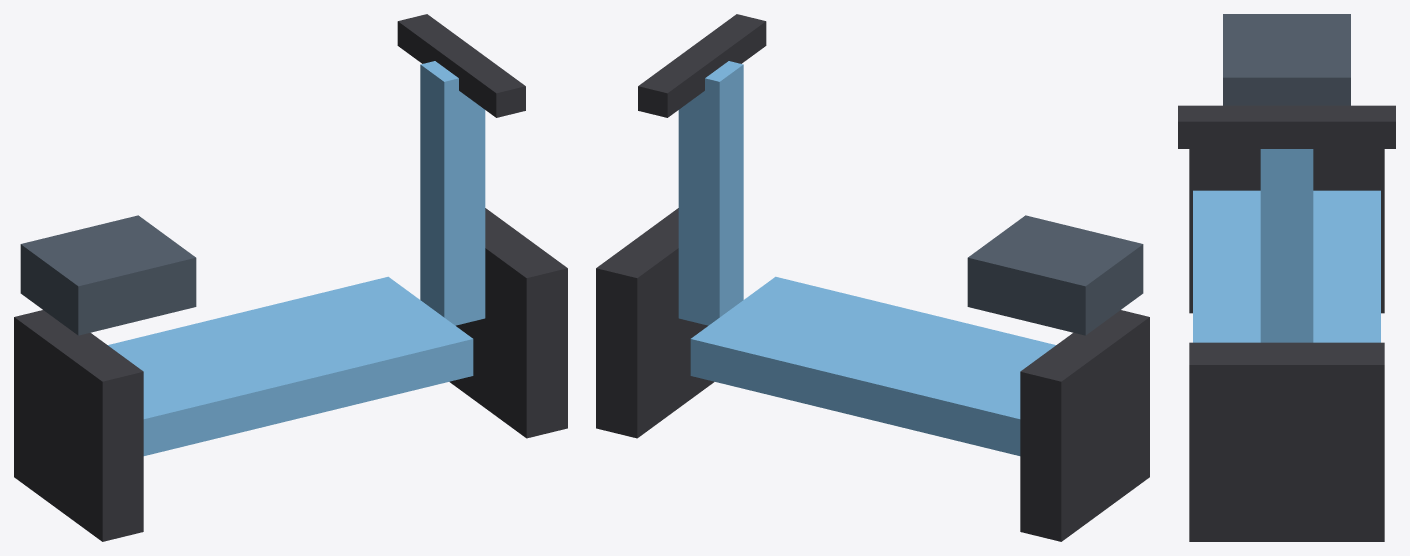
The model's file is vehicle_scooter.glb.
3 views of the same model, side by side, from view 1: azimuth 30°, elevation 25°; view 2: azimuth 150°, elevation 25°; view 3: azimuth 270°, elevation 25° (orthographic). The views are drawn at different scales.
Bounding box in the file's own units: 1.61 × 1.16 × 0.58.
